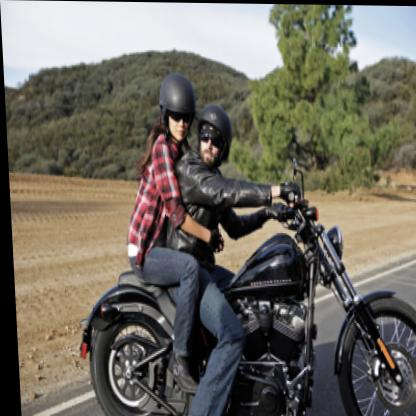With Helmet: (191, 100, 236, 177), (158, 70, 195, 141)
